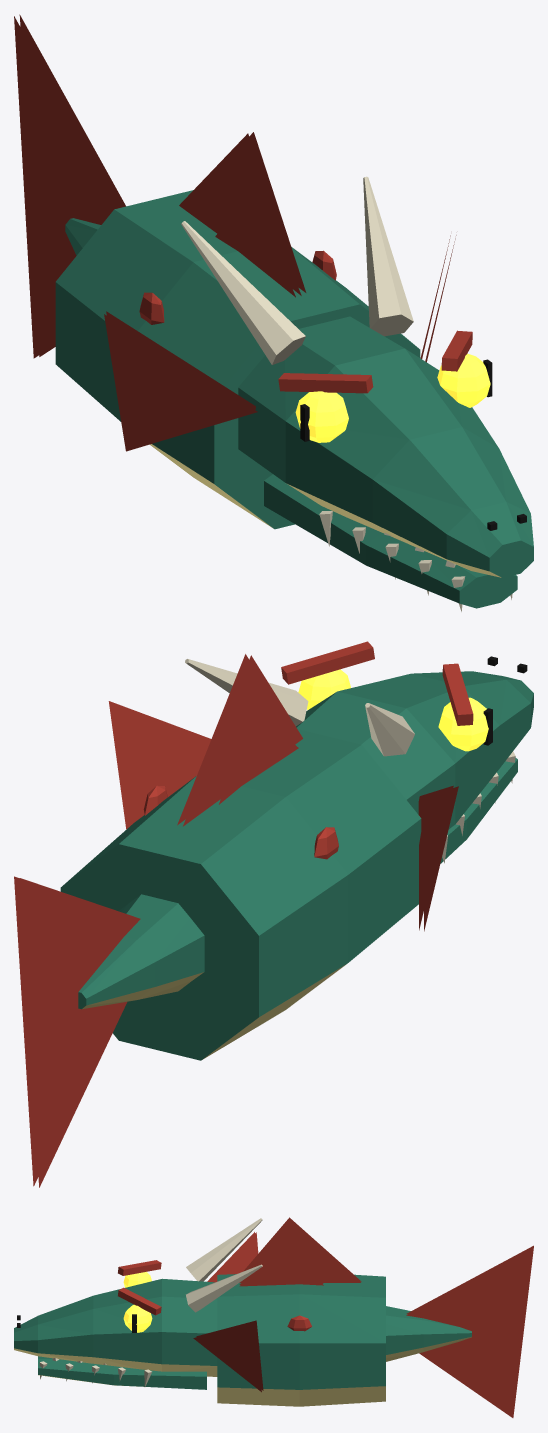
Rendered from SeaSerpent.fbx.
3 renders of one model, top to bottom at view 1: azimuth 30°, elevation 25°; view 2: azimuth 150°, elevation 25°; view 3: azimuth 270°, elevation 25°, orthographic. The views are drawn at different scales.
Parts seen in each view (by area): view 1: Head, Segment, Tail, Jaw; view 2: Segment, Head, Tail, Jaw; view 3: Segment, Head, Tail, Jaw.
Boxes of the visible parts, x1,y1,x2,y2 form: Head: (104,176,533,611); Segment: (55,132,420,529); Tail: (14,14,367,491); Jaw: (264,474,517,608); Segment: (60,654,421,1060); Head: (108,641,533,931); Tail: (14,726,298,1187); Jaw: (440,757,517,863); Segment: (217,1217,385,1406); Head: (14,1218,263,1392); Tail: (239,1245,533,1417); Jaw: (38,1356,206,1389).
Bounding box in the file's own units: 3.1 × 3.2 × 7.55.
